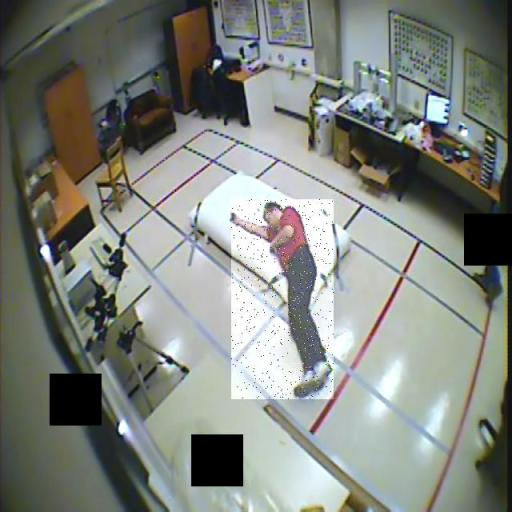Fall: (231, 199, 334, 399)
